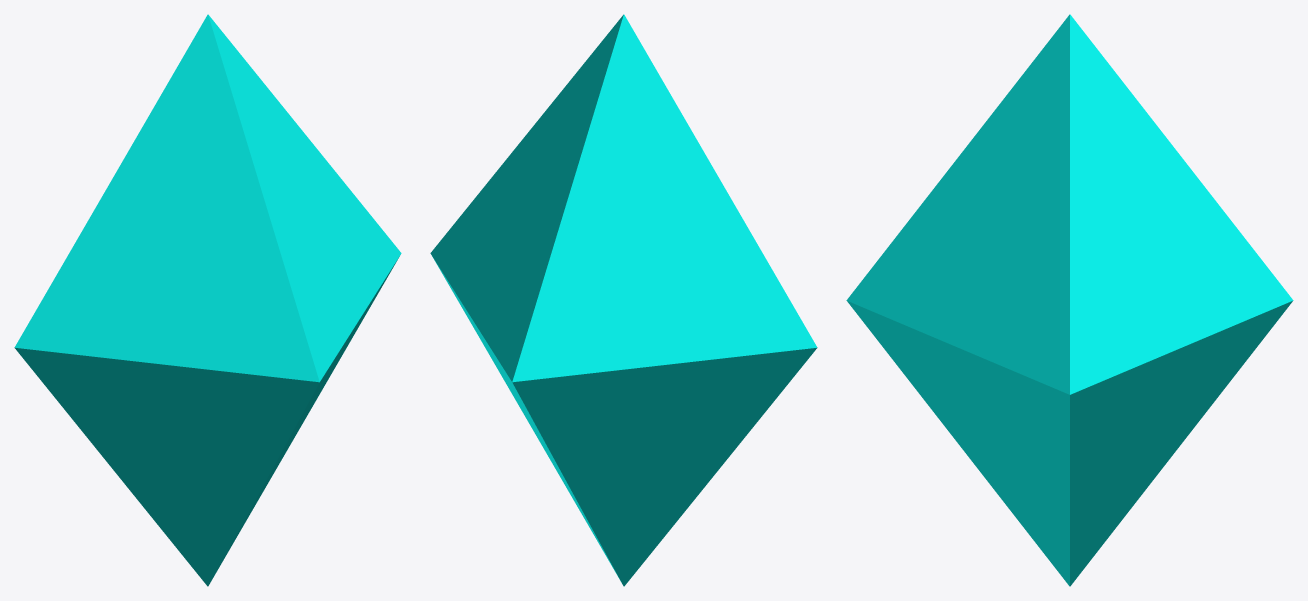
File: mdlSuperEliteCrystal.fbx
3 views of the same model, side by side, from view 1: azimuth 30°, elevation 25°; view 2: azimuth 150°, elevation 25°; view 3: azimuth 270°, elevation 25° (orthographic).
Parts seen in each view (by area): view 1: mdlSuperEliteCrystal; view 2: mdlSuperEliteCrystal; view 3: mdlSuperEliteCrystal.
Part boxes in pixels (box(x1,y1,x2,y2)): mdlSuperEliteCrystal: box(14, 14, 401, 586); mdlSuperEliteCrystal: box(430, 14, 817, 586); mdlSuperEliteCrystal: box(846, 14, 1293, 586).
Bounding box in the file's own units: 0.3826 × 0.541 × 0.3826.
